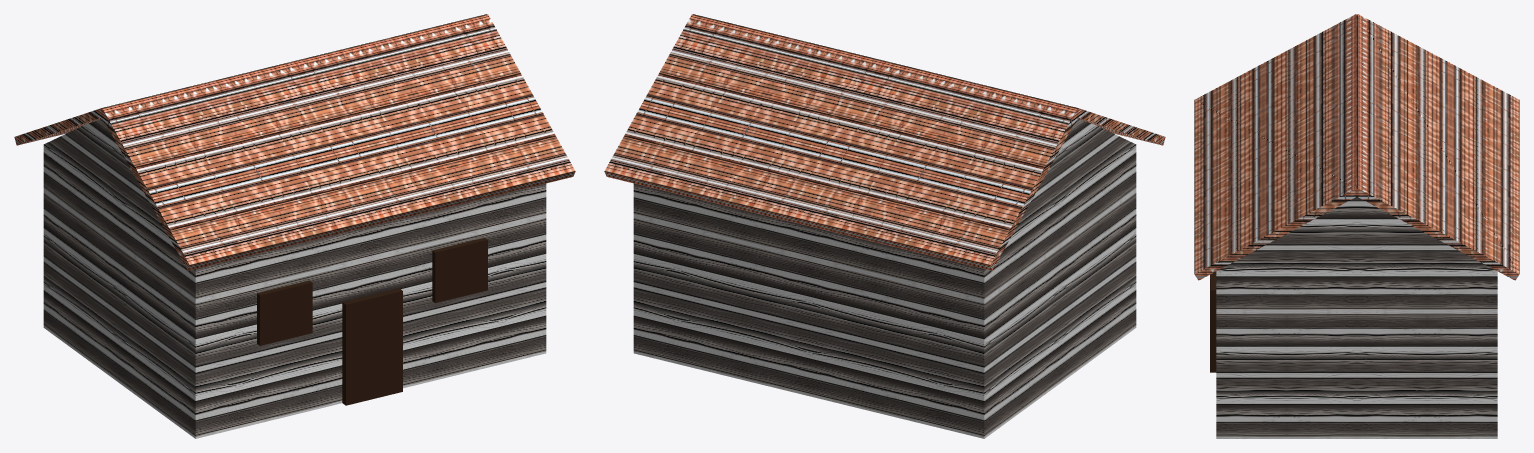
Rendered from asset.glb.
3 views of the same model, side by side, from view 1: azimuth 30°, elevation 25°; view 2: azimuth 150°, elevation 25°; view 3: azimuth 270°, elevation 25° (orthographic). The views are drawn at different scales.
Parts seen in each view (by area): view 1: walls, roof_a, door, gable_b, window2, window1, roof_b; view 2: walls, roof_b, gable_b, roof_a; view 3: walls, roof_a, roof_b, gable_f, window2.
Boxes of the visible parts, x1=… form: walls: x1=43, y1=144, x2=546, y2=438; roof_a: x1=100, y1=15, x2=575, y2=270; door: x1=342, y1=288, x2=402, y2=405; gable_b: x1=44, y1=119, x2=167, y2=234; window2: x1=432, y1=237, x2=487, y2=302; window1: x1=257, y1=280, x2=312, y2=345; roof_b: x1=14, y1=14, x2=487, y2=145; walls: x1=633, y1=144, x2=1136, y2=438; roof_b: x1=604, y1=15, x2=1078, y2=270; gable_b: x1=1012, y1=119, x2=1135, y2=234; roof_a: x1=692, y1=14, x2=1165, y2=145; walls: x1=1216, y1=269, x2=1497, y2=438; roof_a: x1=1194, y1=14, x2=1359, y2=280; roof_b: x1=1354, y1=14, x2=1519, y2=280; gable_f: x1=1221, y1=197, x2=1492, y2=268; window2: x1=1210, y1=271, x2=1216, y2=336.
Bounding box in the file's own units: 8.8 × 6.09 × 6.94.
Materials: 3 (2 with a texture image).
